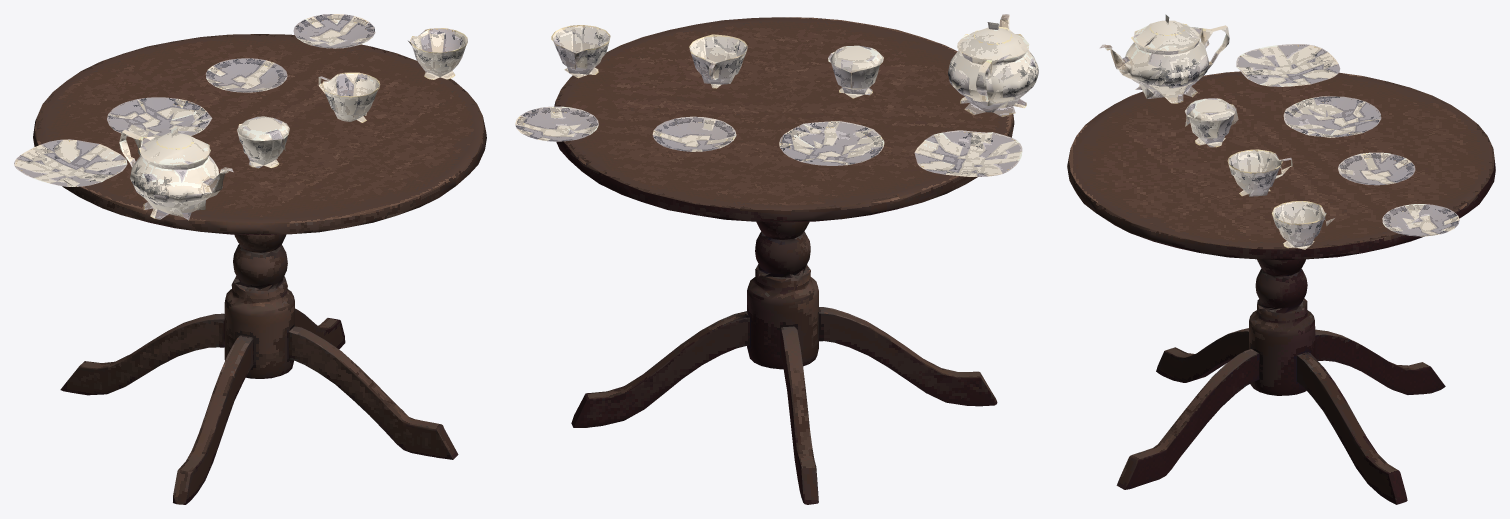
The model's file is teaset.glb.
3 renders of one model, left to right at view 1: azimuth 30°, elevation 25°; view 2: azimuth 150°, elevation 25°; view 3: azimuth 270°, elevation 25°, orthographic. The views are drawn at different scales.
Parts seen in each view (by area): view 1: mesh_q (×2); view 2: mesh_q (×2); view 3: mesh_q (×2).
Part boxes in pixels (x1=…): mesh_q (×2): x1=14, y1=14, x2=486, y2=504; mesh_q (×2): x1=515, y1=14, x2=1038, y2=504; mesh_q (×2): x1=1067, y1=14, x2=1495, y2=504.
Bounding box in the file's own units: 0.9087 × 0.7312 × 0.7989.
Materials: 2 (2 with a texture image).
